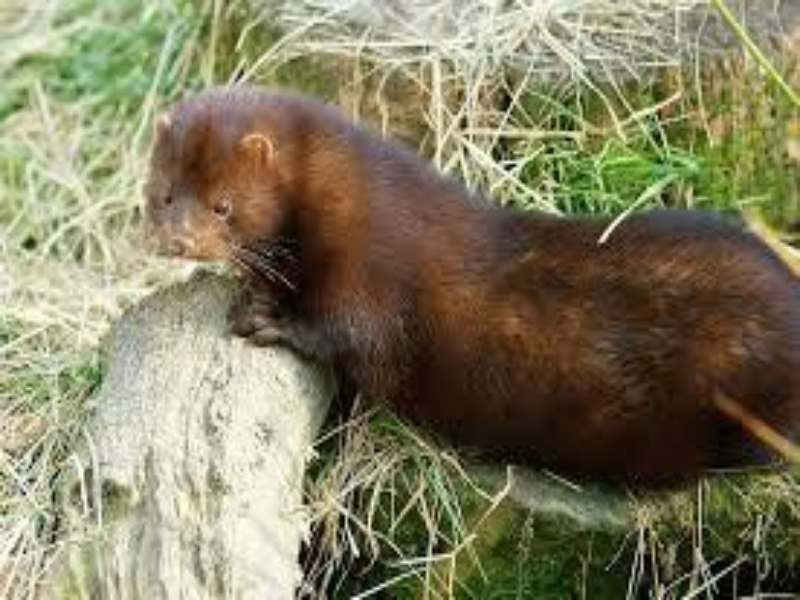minkish: (141, 83, 800, 504)
